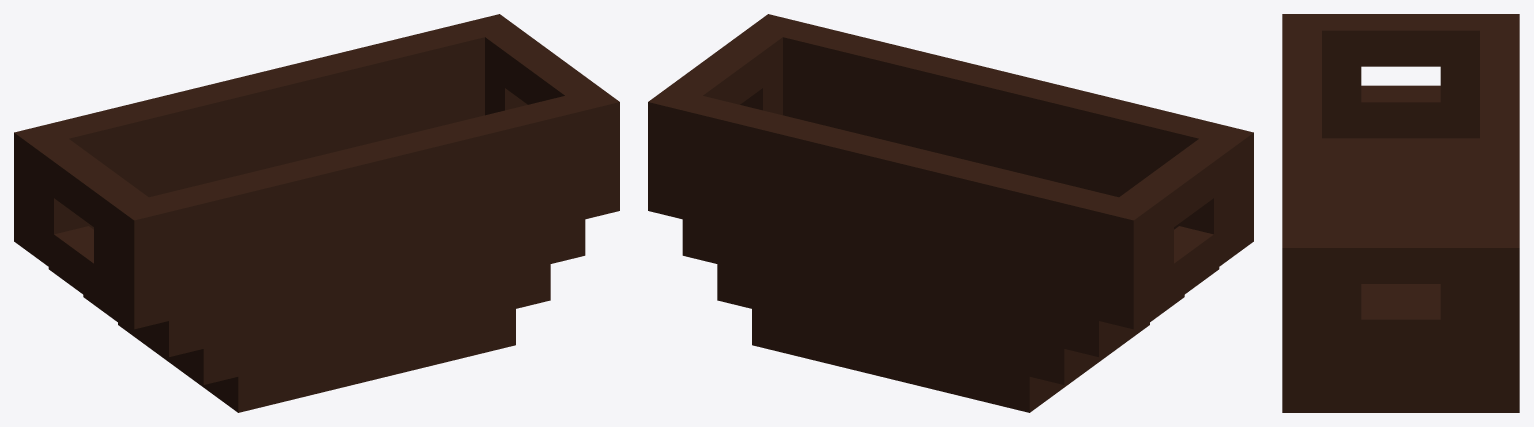
The model's file is Boite ouverte.obj.
3 renders of one model, left to right at view 1: azimuth 30°, elevation 25°; view 2: azimuth 150°, elevation 25°; view 3: azimuth 270°, elevation 25°, orthographic.
Parts seen in each view (by area): view 1: Boite ouverte; view 2: Boite ouverte; view 3: Boite ouverte.
Part boxes in pixels (box(x1,y1,x2,y2)): Boite ouverte: box(14, 14, 619, 412); Boite ouverte: box(648, 14, 1253, 412); Boite ouverte: box(1282, 14, 1519, 412).
Size of the model in its own units: 14 by 6 by 6.
Materials: 1 (1 with a texture image).
